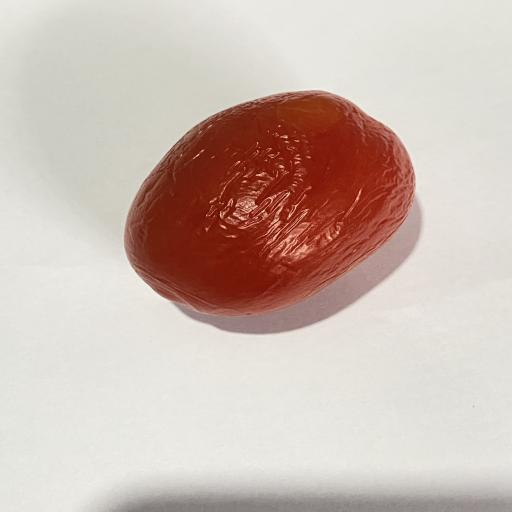spoiled: (125, 91, 414, 316)
